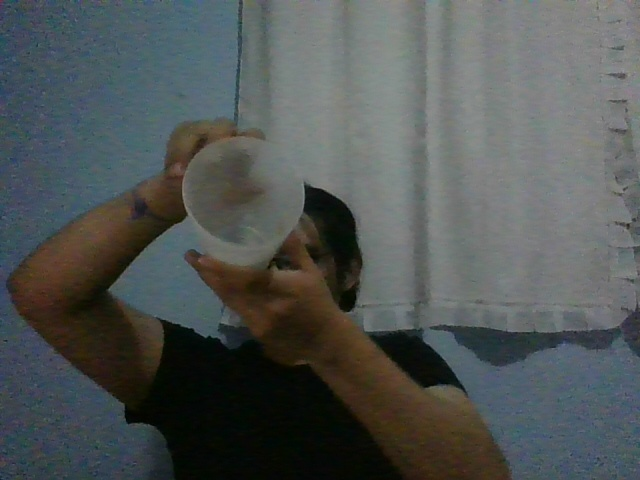vaso: (181, 136, 306, 270)
